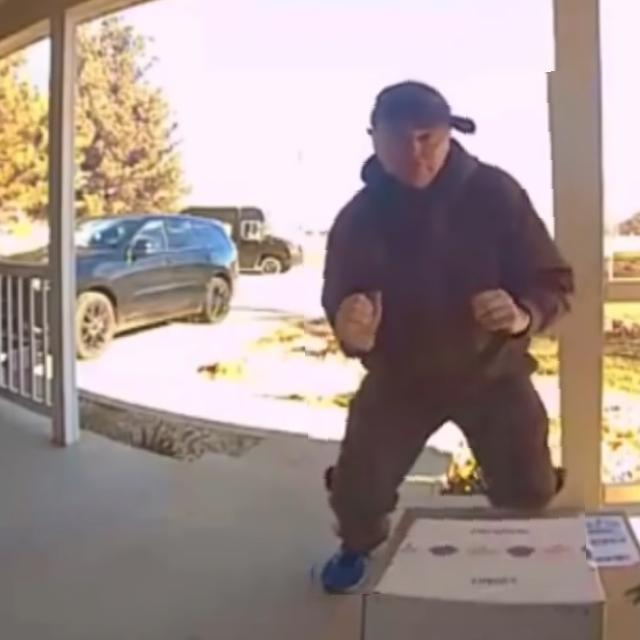Jacket_Wearer: (324, 160, 564, 415)
Person: (314, 84, 591, 546)
